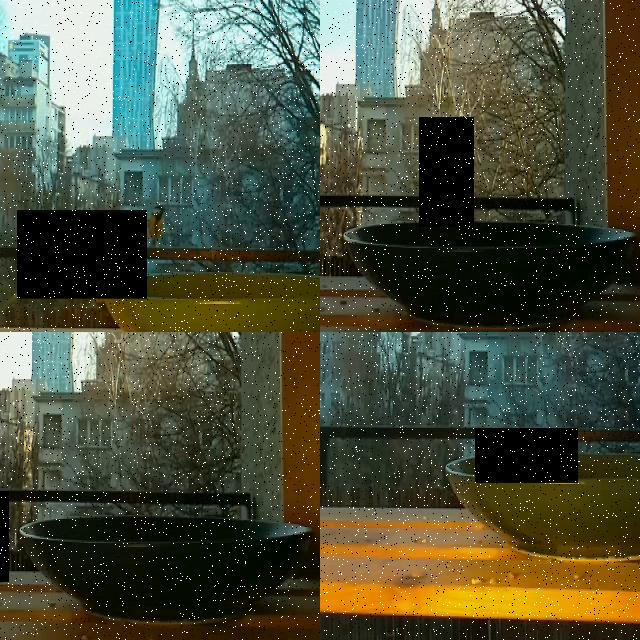Modraszka: (17, 210, 147, 298), (419, 117, 474, 227), (475, 428, 578, 483)
